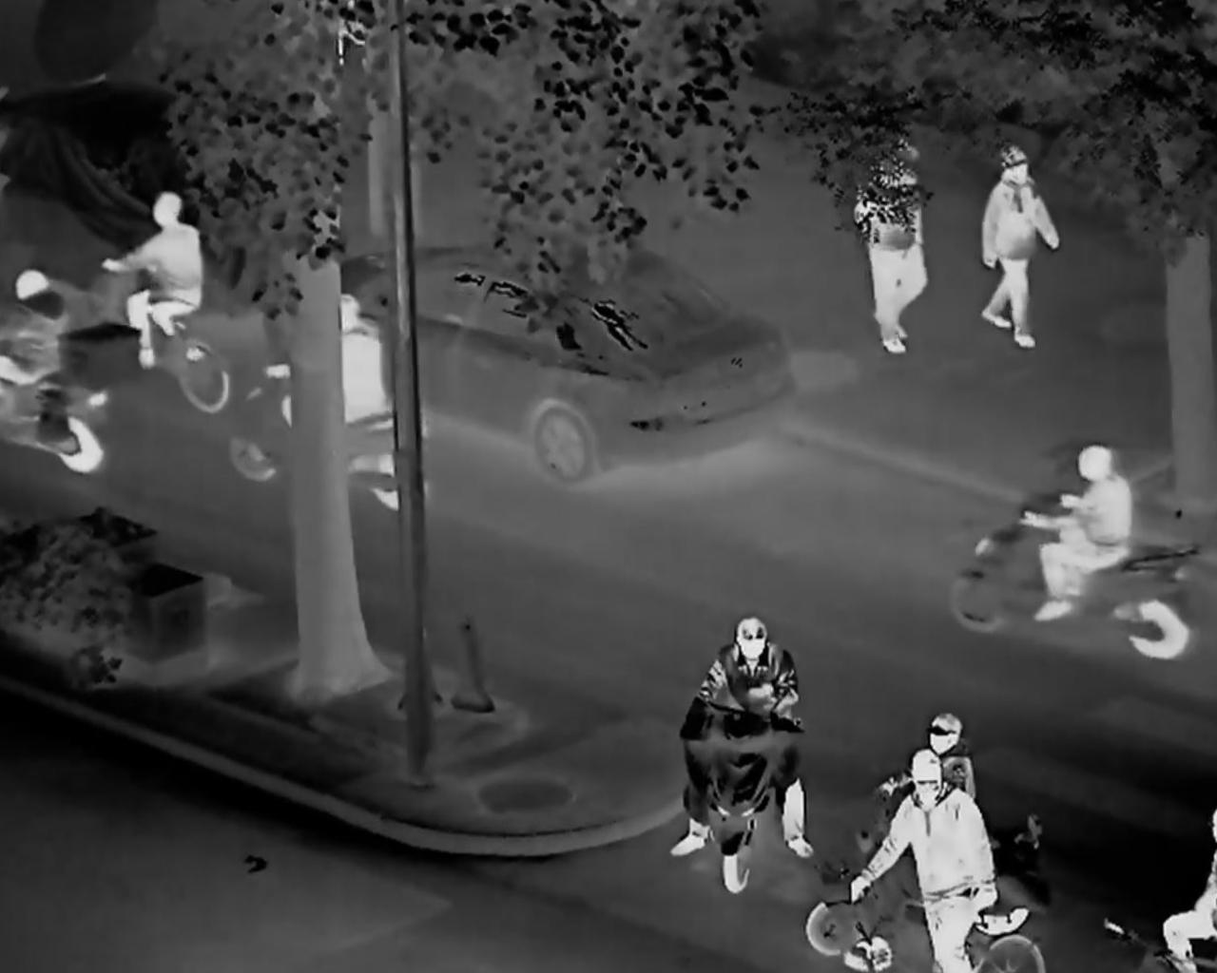person: (680, 604, 825, 864), (1020, 422, 1135, 628), (881, 754, 989, 969), (852, 140, 934, 382), (975, 147, 1071, 348), (284, 296, 399, 462), (105, 184, 198, 357), (879, 706, 960, 801)
